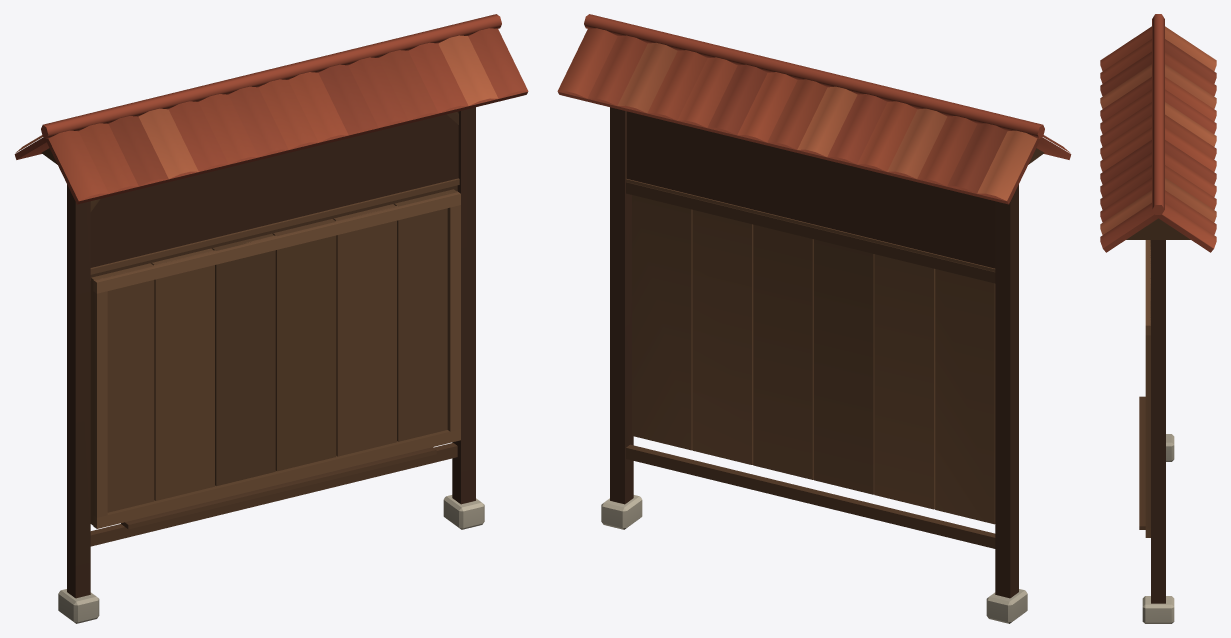
The model's file is plaza-board.glb.
3 renders of one model, left to right at view 1: azimuth 30°, elevation 25°; view 2: azimuth 150°, elevation 25°; view 3: azimuth 270°, elevation 25°, orthographic. The views are drawn at different scales.
Parts seen in each view (by area): view 1: board; view 2: board; view 3: board.
Part boxes in pixels (x1=…): board: x1=14, y1=14, x2=528, y2=623; board: x1=557, y1=14, x2=1071, y2=623; board: x1=1100, y1=14, x2=1216, y2=623.
Bounding box in the file's own units: 4.24 × 4.45 × 1.09.
